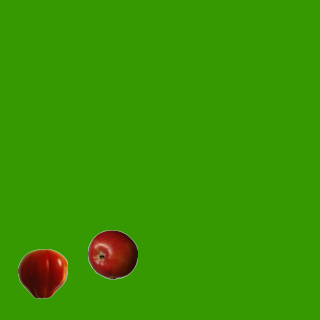Apple Braeburn: (87, 229, 137, 279)
Tomato 1: (17, 248, 67, 298)
